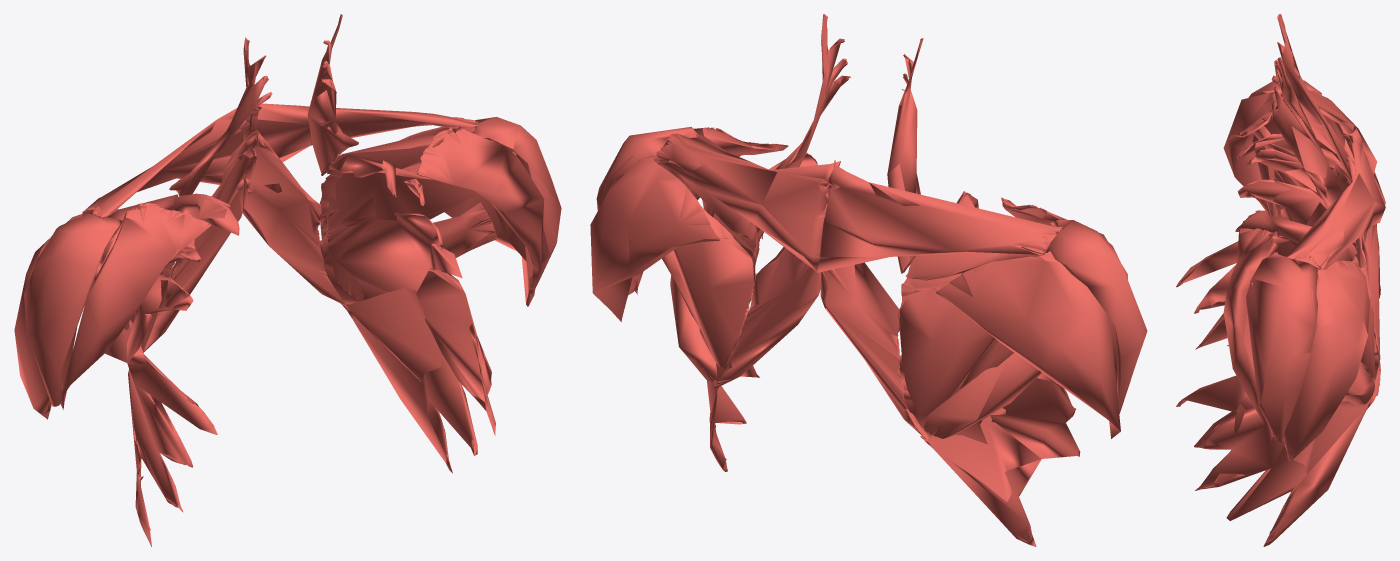
File: supplement-shoulder-muscle.glb
The picture shows the model from 3 angles, left to right: view 1: azimuth 30°, elevation 25°; view 2: azimuth 150°, elevation 25°; view 3: azimuth 270°, elevation 25°; orthographic projection. The views are drawn at different scales.
Visible parts, largest first — view 1: shoulder:serratus-anterior:isa:FJ1459M, shoulder:serratus-anterior:isa:FJ1459, shoulder:deltoid:isa:FJ1468, shoulder:deltoid:isa:FJ1467, shoulder:deltoid:isa:FJ1468M, shoulder:rhomboid-major:isa:FJ1536M, shoulder:subscapularis:isa:FJ1504M, shoulder:trapezius:isa:FJ1554M, shoulder:trapezius:isa:FJ1554, shoulder:rhomboid-major:isa:FJ1536, shoulder:deltoid:isa:FJ1467M, shoulder:levator-scapulae:isa:FJ1532M (+5 smaller); view 2: shoulder:deltoid:isa:FJ1513, shoulder:trapezius:isa:FJ1554, shoulder:serratus-anterior:isa:FJ1459, shoulder:deltoid:isa:FJ1513M, shoulder:trapezius:isa:FJ1554M, shoulder:infraspinatus:isa:FJ1500, shoulder:rhomboid-major:isa:FJ1536, shoulder:deltoid:isa:FJ1467, shoulder:infraspinatus:isa:FJ1500M, shoulder:rhomboid-major:isa:FJ1536M, shoulder:teres-major:isa:FJ1507, shoulder:levator-scapulae:isa:FJ1532 (+9 smaller); view 3: shoulder:serratus-anterior:isa:FJ1459M, shoulder:deltoid:isa:FJ1467M, shoulder:deltoid:isa:FJ1513M, shoulder:serratus-anterior:isa:FJ1459, shoulder:trapezius:isa:FJ1554M, shoulder:deltoid:isa:FJ1468M, shoulder:levator-scapulae:isa:FJ1532M, shoulder:deltoid:isa:FJ1468, shoulder:levator-scapulae:isa:FJ1532, shoulder:rhomboid-major:isa:FJ1536M, shoulder:trapezius:isa:FJ1554, shoulder:deltoid:isa:FJ1467 (+6 smaller).
Part boxes in pixels (<box>): shoulder:serratus-anterior:isa:FJ1459M: <box>319,154,495,473</box>; shoulder:serratus-anterior:isa:FJ1459: <box>127,193,239,546</box>; shoulder:deltoid:isa:FJ1468: <box>61,203,211,409</box>; shoulder:deltoid:isa:FJ1467: <box>24,213,122,406</box>; shoulder:deltoid:isa:FJ1468M: <box>418,127,544,295</box>; shoulder:rhomboid-major:isa:FJ1536M: <box>242,130,345,305</box>; shoulder:subscapularis:isa:FJ1504M: <box>326,168,478,301</box>; shoulder:trapezius:isa:FJ1554M: <box>243,103,478,177</box>; shoulder:trapezius:isa:FJ1554: <box>82,106,262,217</box>; shoulder:rhomboid-major:isa:FJ1536: <box>143,130,257,352</box>; shoulder:deltoid:isa:FJ1467M: <box>472,117,561,289</box>; shoulder:levator-scapulae:isa:FJ1532M: <box>307,14,358,173</box>; shoulder:deltoid:isa:FJ1513: <box>933,251,1120,438</box>; shoulder:trapezius:isa:FJ1554: <box>817,160,1062,272</box>; shoulder:serratus-anterior:isa:FJ1459: <box>898,191,1080,546</box>; shoulder:deltoid:isa:FJ1513M: <box>590,155,733,321</box>; shoulder:trapezius:isa:FJ1554M: <box>656,133,840,272</box>; shoulder:infraspinatus:isa:FJ1500: <box>899,287,995,416</box>; shoulder:rhomboid-major:isa:FJ1536: <box>820,262,928,441</box>; shoulder:deltoid:isa:FJ1467: <box>1045,220,1147,413</box>; shoulder:infraspinatus:isa:FJ1500M: <box>672,214,754,367</box>; shoulder:rhomboid-major:isa:FJ1536M: <box>714,247,821,388</box>; shoulder:teres-major:isa:FJ1507: <box>924,353,1041,438</box>; shoulder:levator-scapulae:isa:FJ1532: <box>887,38,923,273</box>; shoulder:serratus-anterior:isa:FJ1459M: <box>1176,210,1378,546</box>; shoulder:deltoid:isa:FJ1467M: <box>1246,252,1319,443</box>; shoulder:deltoid:isa:FJ1513M: <box>1283,260,1369,462</box>; shoulder:serratus-anterior:isa:FJ1459: <box>1176,133,1359,349</box>; shoulder:trapezius:isa:FJ1554M: <box>1286,132,1385,269</box>; shoulder:deltoid:isa:FJ1468M: <box>1223,228,1279,441</box>; shoulder:levator-scapulae:isa:FJ1532M: <box>1271,57,1357,247</box>; shoulder:deltoid:isa:FJ1468: <box>1223,92,1277,214</box>; shoulder:levator-scapulae:isa:FJ1532: <box>1271,14,1352,181</box>; shoulder:rhomboid-major:isa:FJ1536M: <box>1346,157,1380,400</box>; shoulder:trapezius:isa:FJ1554: <box>1309,90,1385,222</box>; shoulder:deltoid:isa:FJ1467: <box>1248,80,1321,217</box>.
Size of the model in its own units: 0.4529 by 0.3904 by 0.1675.
